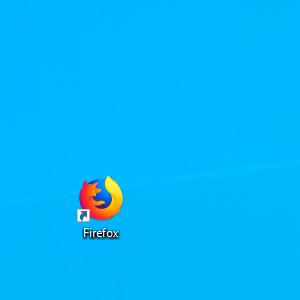firefox: (76, 175, 123, 222)
